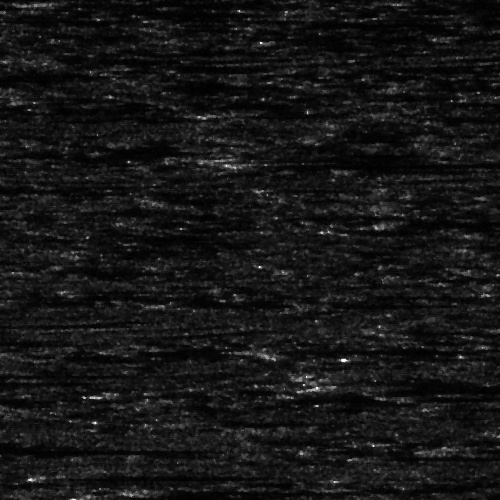object: (209, 157, 292, 170), (127, 481, 190, 498), (410, 442, 500, 453), (0, 0, 113, 8), (280, 224, 373, 233), (219, 345, 282, 356), (360, 79, 413, 90), (404, 28, 445, 41), (166, 110, 249, 115), (371, 216, 412, 225), (30, 474, 103, 479), (349, 454, 402, 459), (295, 299, 336, 304), (328, 385, 369, 390)
shadow: (159, 481, 363, 498), (0, 440, 201, 457), (251, 157, 500, 170), (251, 345, 500, 356), (326, 224, 500, 233), (50, 0, 225, 8), (387, 79, 500, 90), (425, 28, 500, 41), (392, 216, 500, 225), (0, 394, 93, 403), (66, 474, 217, 479), (349, 385, 500, 390), (376, 454, 500, 459), (208, 110, 330, 115), (316, 299, 429, 304), (462, 442, 500, 453), (0, 377, 46, 386)
